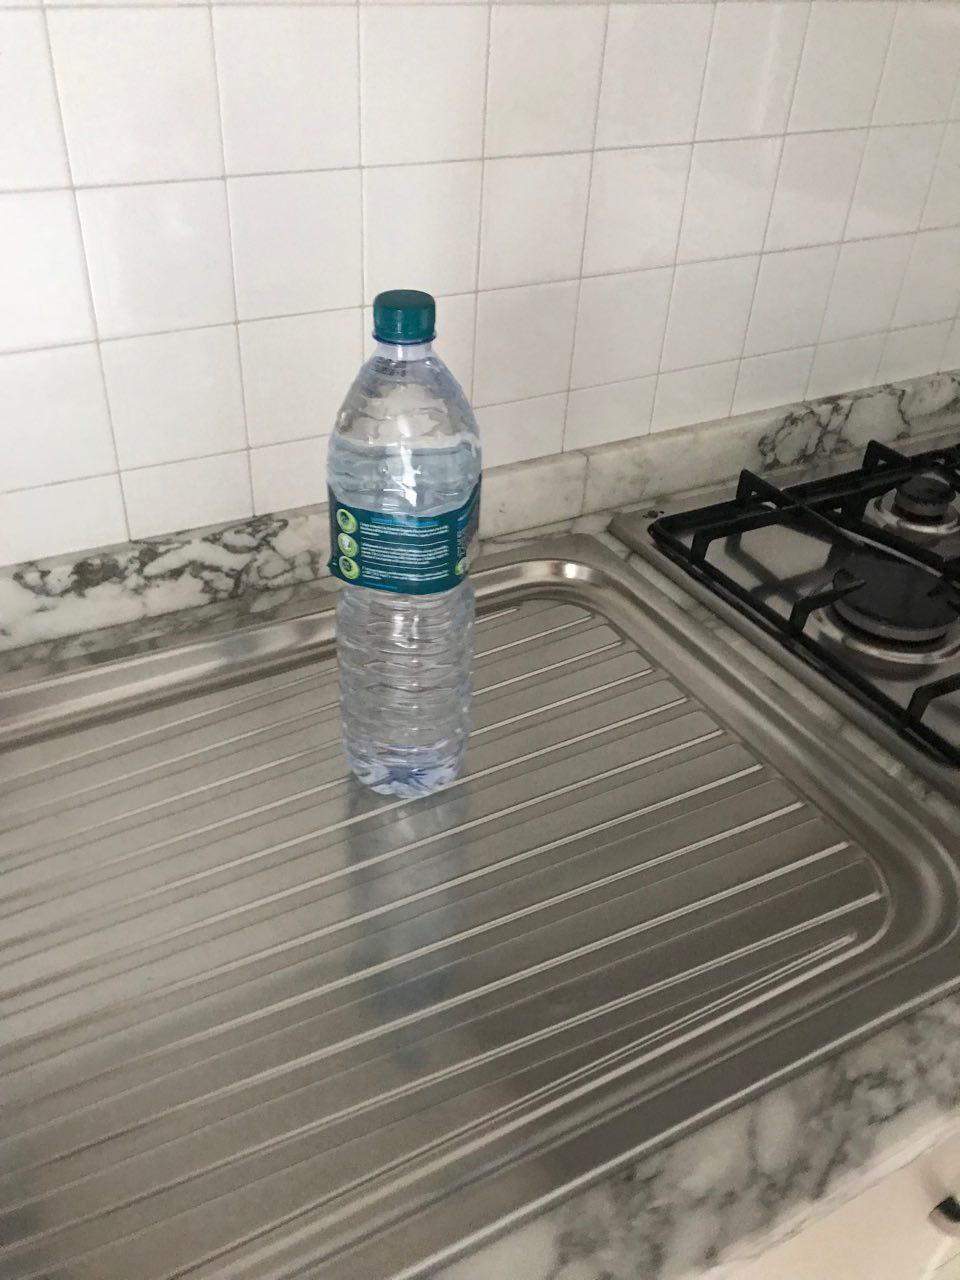san_bernardo: (326, 287, 483, 800)
